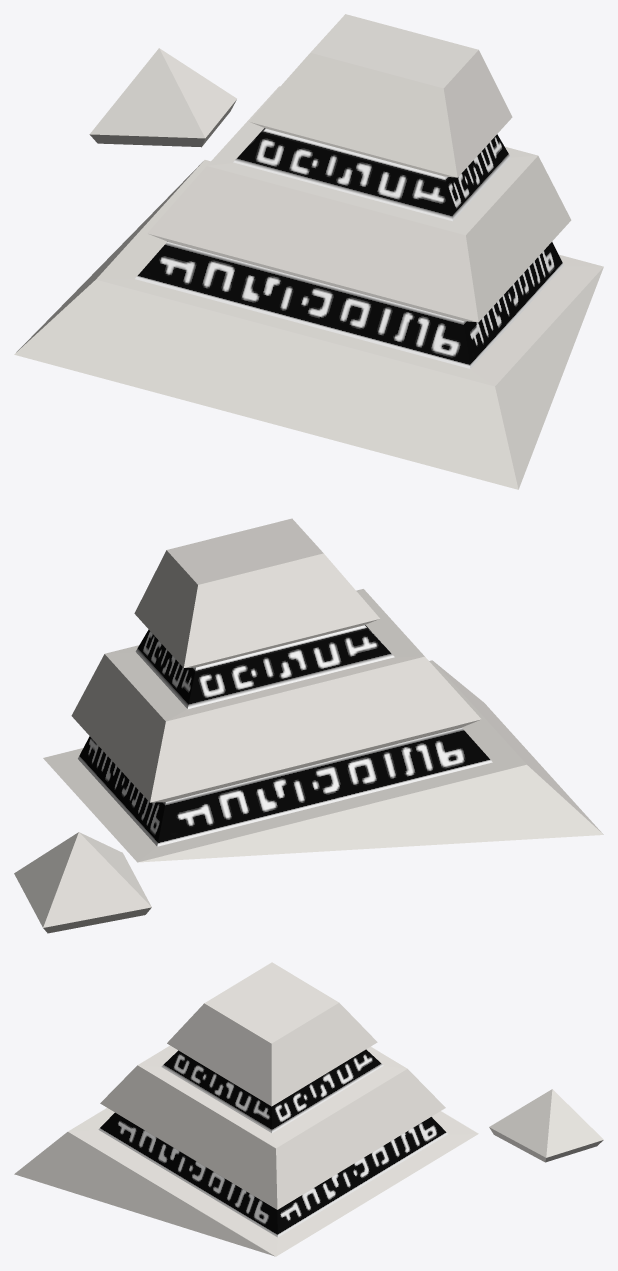
The model's file is haikyou_piramito.fbx.
3 views of the same model, one above another, from view 1: azimuth 30°, elevation 25°; view 2: azimuth 150°, elevation 25°; view 3: azimuth 270°, elevation 25° (orthographic). The views are drawn at different scales.
Visible parts, largest first — view 1: piramito_hontai, piramito_pattern, piramito_ue; view 2: piramito_hontai, piramito_pattern, piramito_ue; view 3: piramito_hontai, piramito_pattern, piramito_ue.
Part boxes in pixels (left/top/right/bottom): piramito_hontai: left=14, top=14, right=603, bottom=489; piramito_pattern: left=135, top=128, right=563, bottom=368; piramito_ue: left=89, top=48, right=236, bottom=147; piramito_hontai: left=43, top=518, right=603, bottom=862; piramito_pattern: left=78, top=625, right=492, bottom=846; piramito_ue: left=14, top=832, right=151, bottom=933; piramito_hontai: left=14, top=962, right=478, bottom=1256; piramito_pattern: left=98, top=1049, right=447, bottom=1237; piramito_ue: left=489, top=1089, right=603, bottom=1162.
Size of the model in its own units: 759 by 370 by 960.
2 materials, 2 textured.
